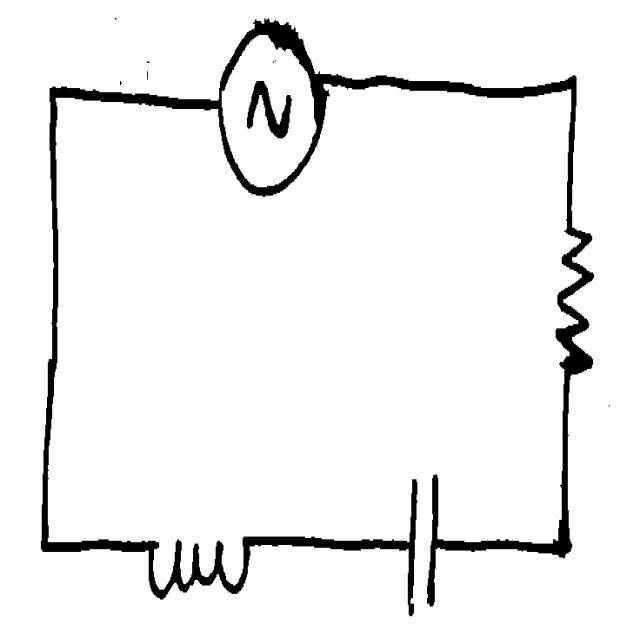ac: (206, 7, 335, 202)
capacitor: (387, 464, 449, 624)
inductor: (128, 512, 262, 604)
resistor: (551, 198, 606, 393)
